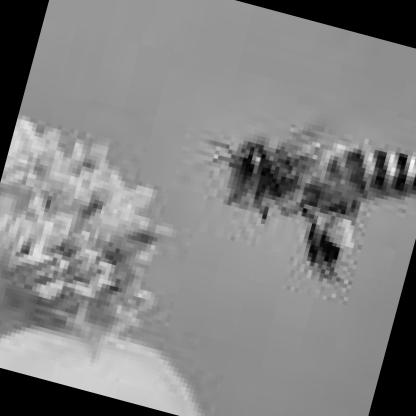other: (189, 99, 415, 318)
